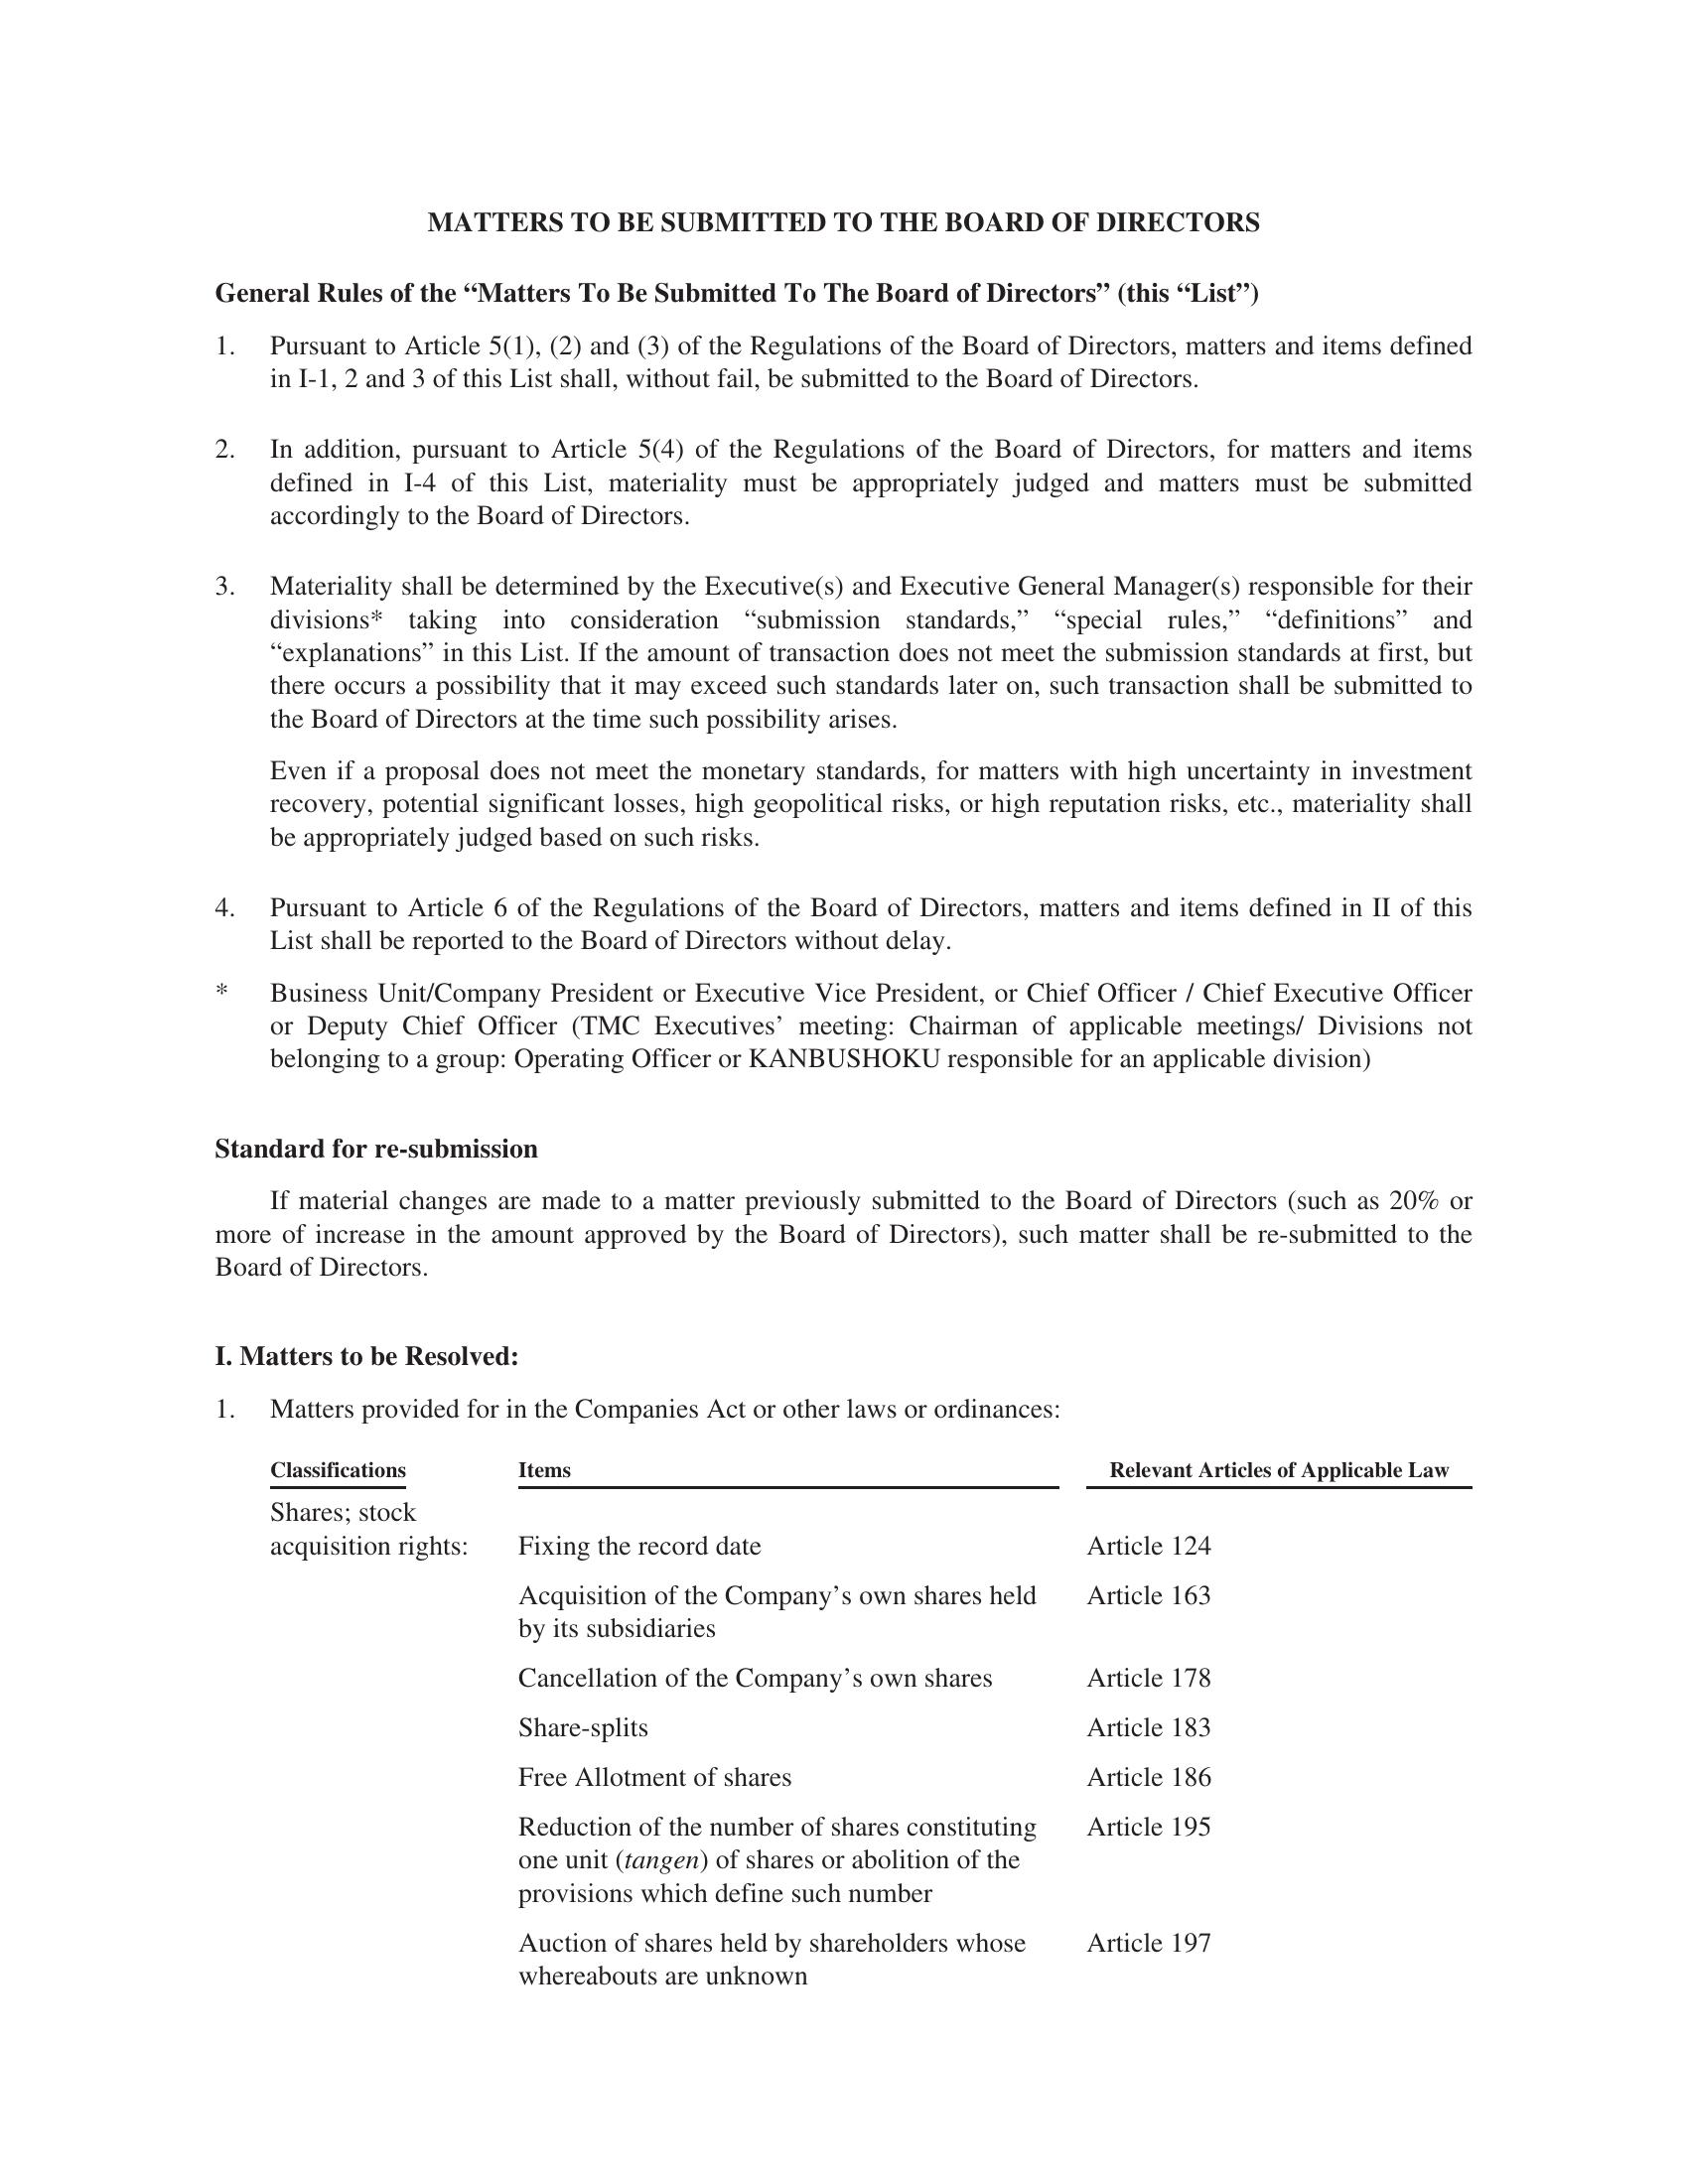Footer: (0, 2008, 1688, 2184)
Header: (0, 0, 1688, 175)
Table: (209, 1439, 1495, 1993)
